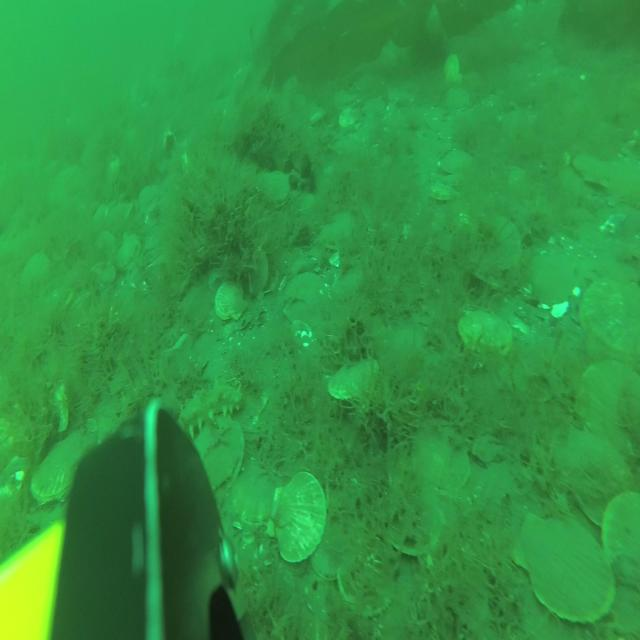holothurian: (177, 378, 245, 436)
scallop: (518, 507, 616, 630), (559, 422, 630, 530), (577, 354, 640, 462), (580, 269, 640, 363), (382, 471, 442, 559), (272, 476, 326, 572), (31, 424, 90, 508), (416, 417, 474, 498), (312, 497, 361, 583), (470, 210, 522, 290), (342, 542, 394, 616), (605, 488, 637, 602), (528, 246, 576, 308), (198, 418, 244, 482), (460, 303, 514, 357), (234, 464, 275, 532), (331, 360, 380, 412), (331, 261, 364, 307), (213, 281, 248, 324), (320, 212, 359, 250), (573, 150, 609, 187), (261, 166, 290, 209), (438, 145, 475, 177), (245, 249, 267, 300), (22, 256, 50, 293), (115, 237, 138, 276), (431, 174, 462, 202), (339, 103, 363, 136), (139, 183, 160, 218), (365, 95, 387, 125), (442, 51, 462, 84)
